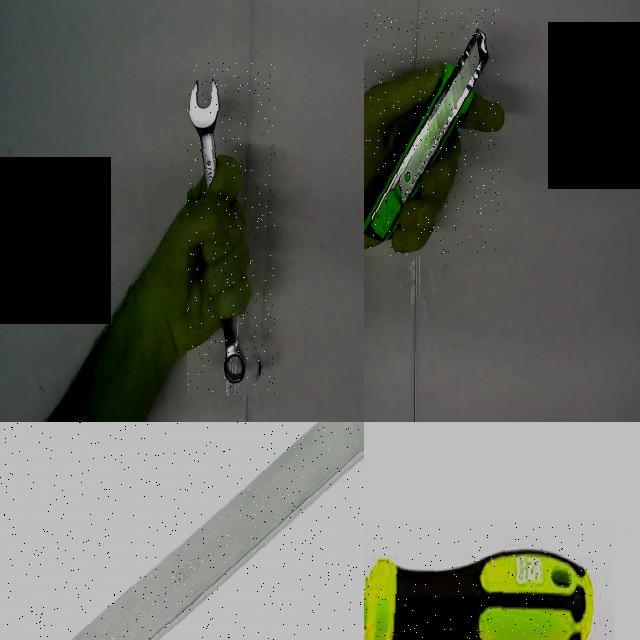estilete: (365, 29, 488, 241)
